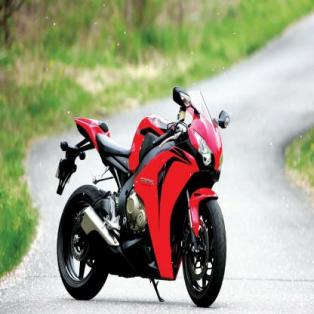Motocicleta: (51, 86, 235, 310)
